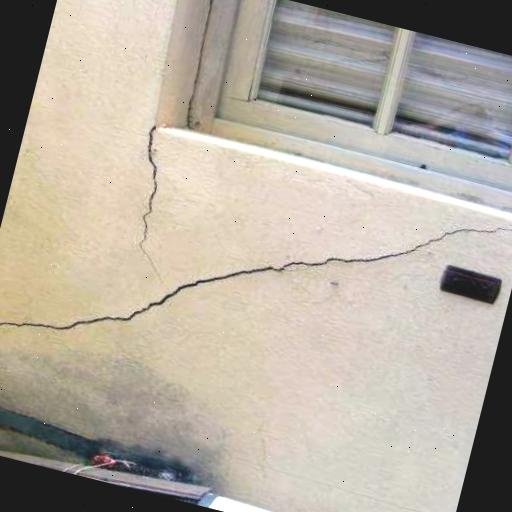spalling: (0, 216, 499, 334), (129, 123, 166, 277)
